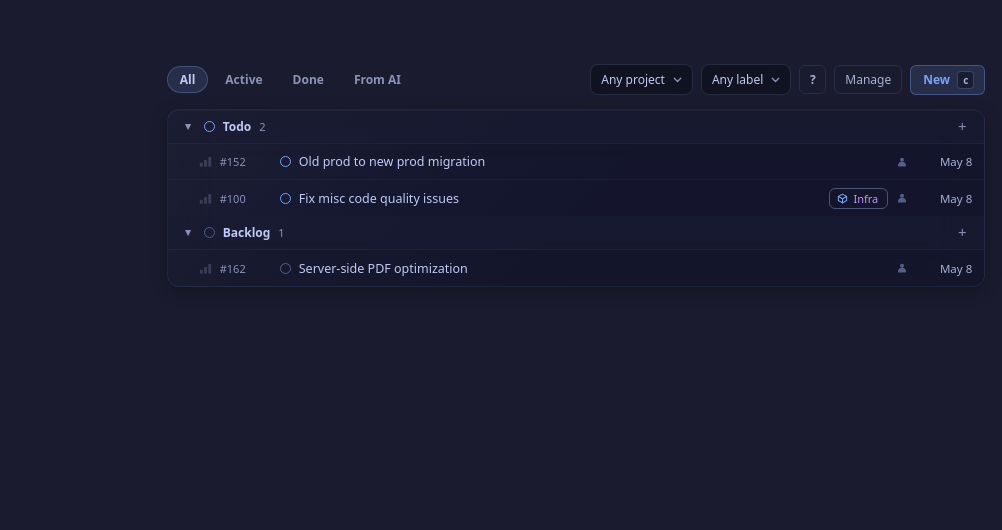
Test case: TodosPage row context menu › right-clicking a row opens a menu carrying every row action
The image size is (1002, 530).
Check: the text "Old prod to new prod migration" is shown, box [299,153,485,170]
Right-click the button with aria-label "Edit Old prod to new prod migration": (392, 162) [199,144,972,179]
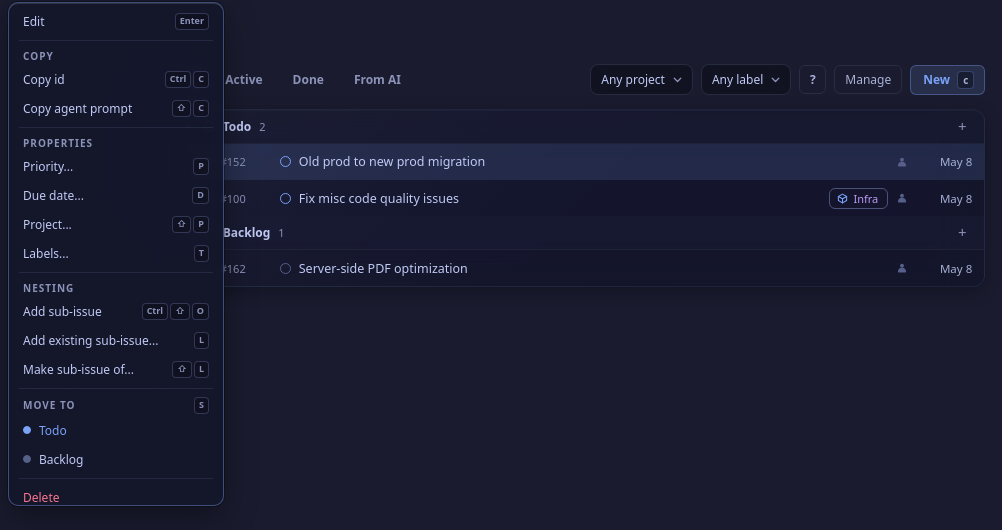
Check: the menu item "Edit Enter" is shown, box [13,7,219,36]
Check: the menu item "Priority... P" is shown, box [13,152,219,181]
Check: the menu item "Due date... D" is shown, box [13,181,219,210]
